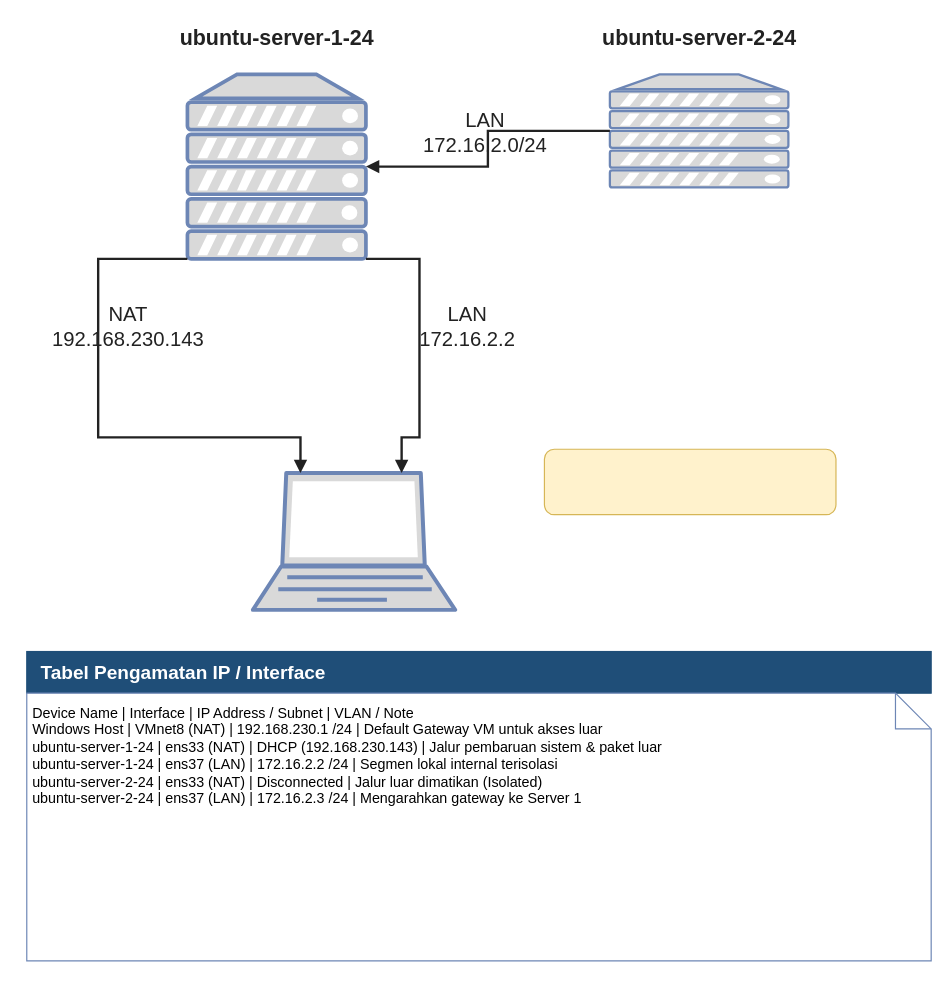
Some shapes in this 952 by 982 pixel diagram are drawn without their labels. Here are the shapes that lost their labels. From the top down, the centre of each, then its label:
At (x=689, y=481): "Server 1 sebagai gateway perantara".
At (x=353, y=540): "Host Windows".
